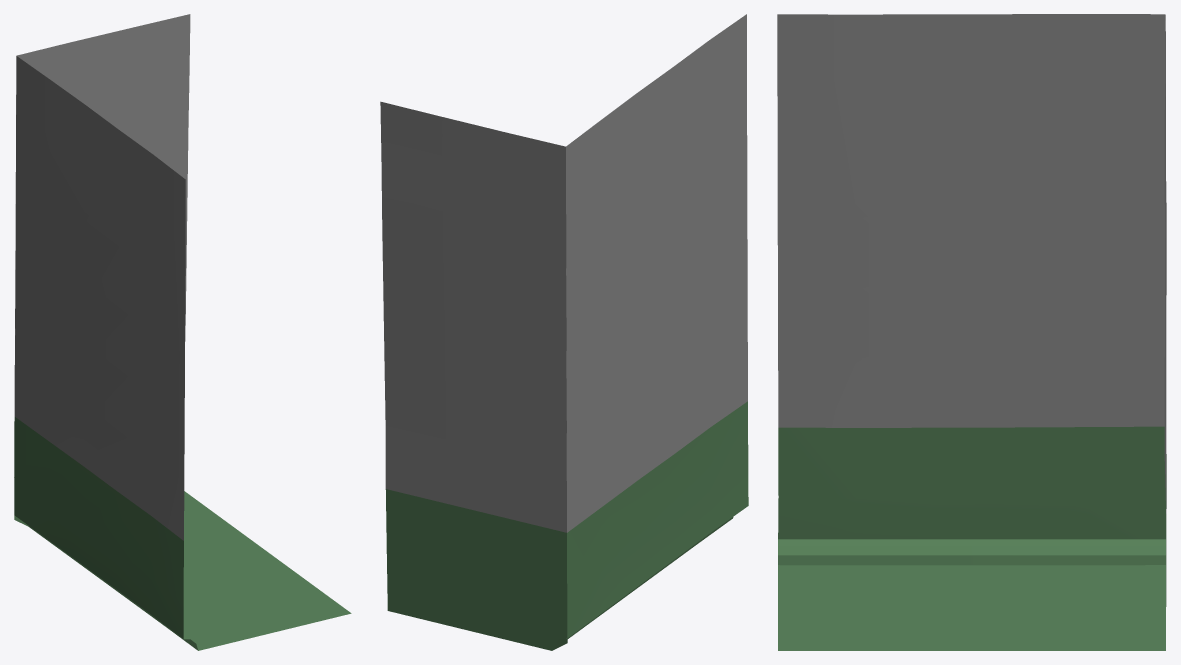
The model's file is Mapa 14.fbx.
3 renders of one model, left to right at view 1: azimuth 30°, elevation 25°; view 2: azimuth 150°, elevation 25°; view 3: azimuth 270°, elevation 25°, orthographic. The views are drawn at different scales.
Visible parts, largest first — view 1: pPlane16; view 2: pPlane16; view 3: pPlane16.
Part boxes in pixels (left/top/right/bottom): pPlane16: left=14, top=14, right=351, bottom=650; pPlane16: left=380, top=14, right=748, bottom=650; pPlane16: left=777, top=14, right=1166, bottom=650.
Size of the model in its own units: 19.32 by 49.95 by 32.37.
